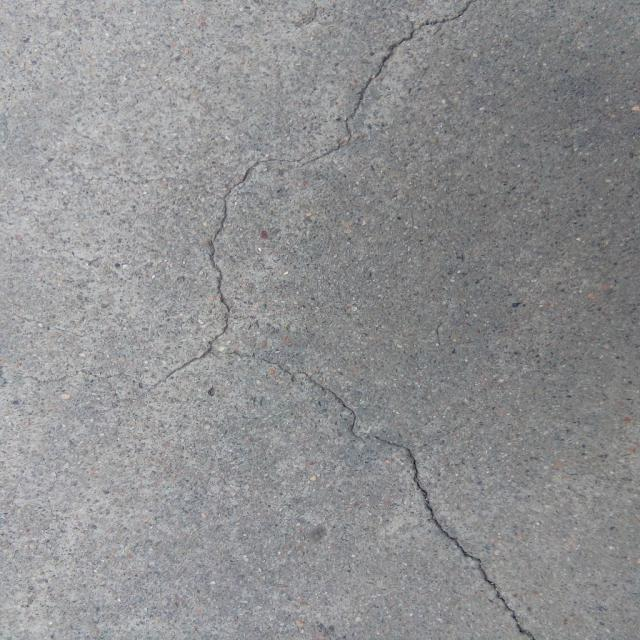cracks: (182, 1, 543, 640)
